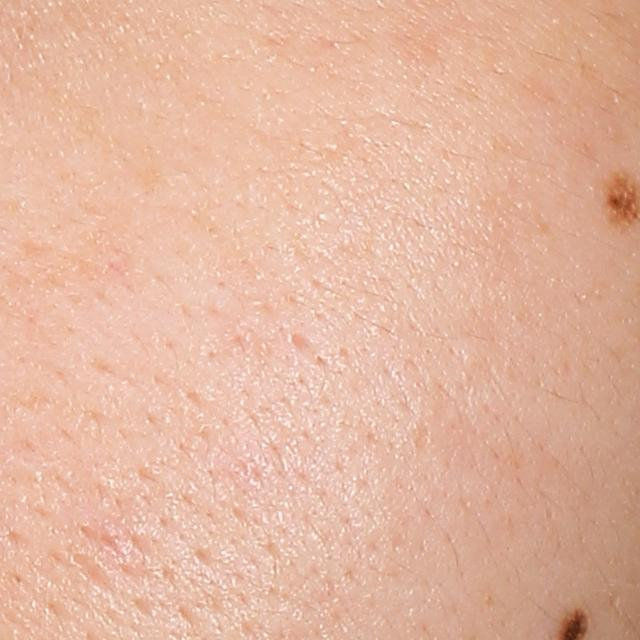atrophic_scar: (283, 327, 321, 361)
nevus: (599, 176, 640, 229)
